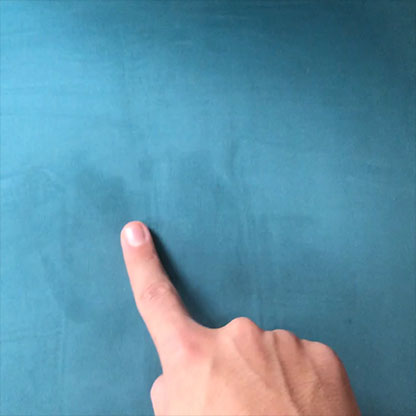fingertip: (113, 215, 166, 261)
